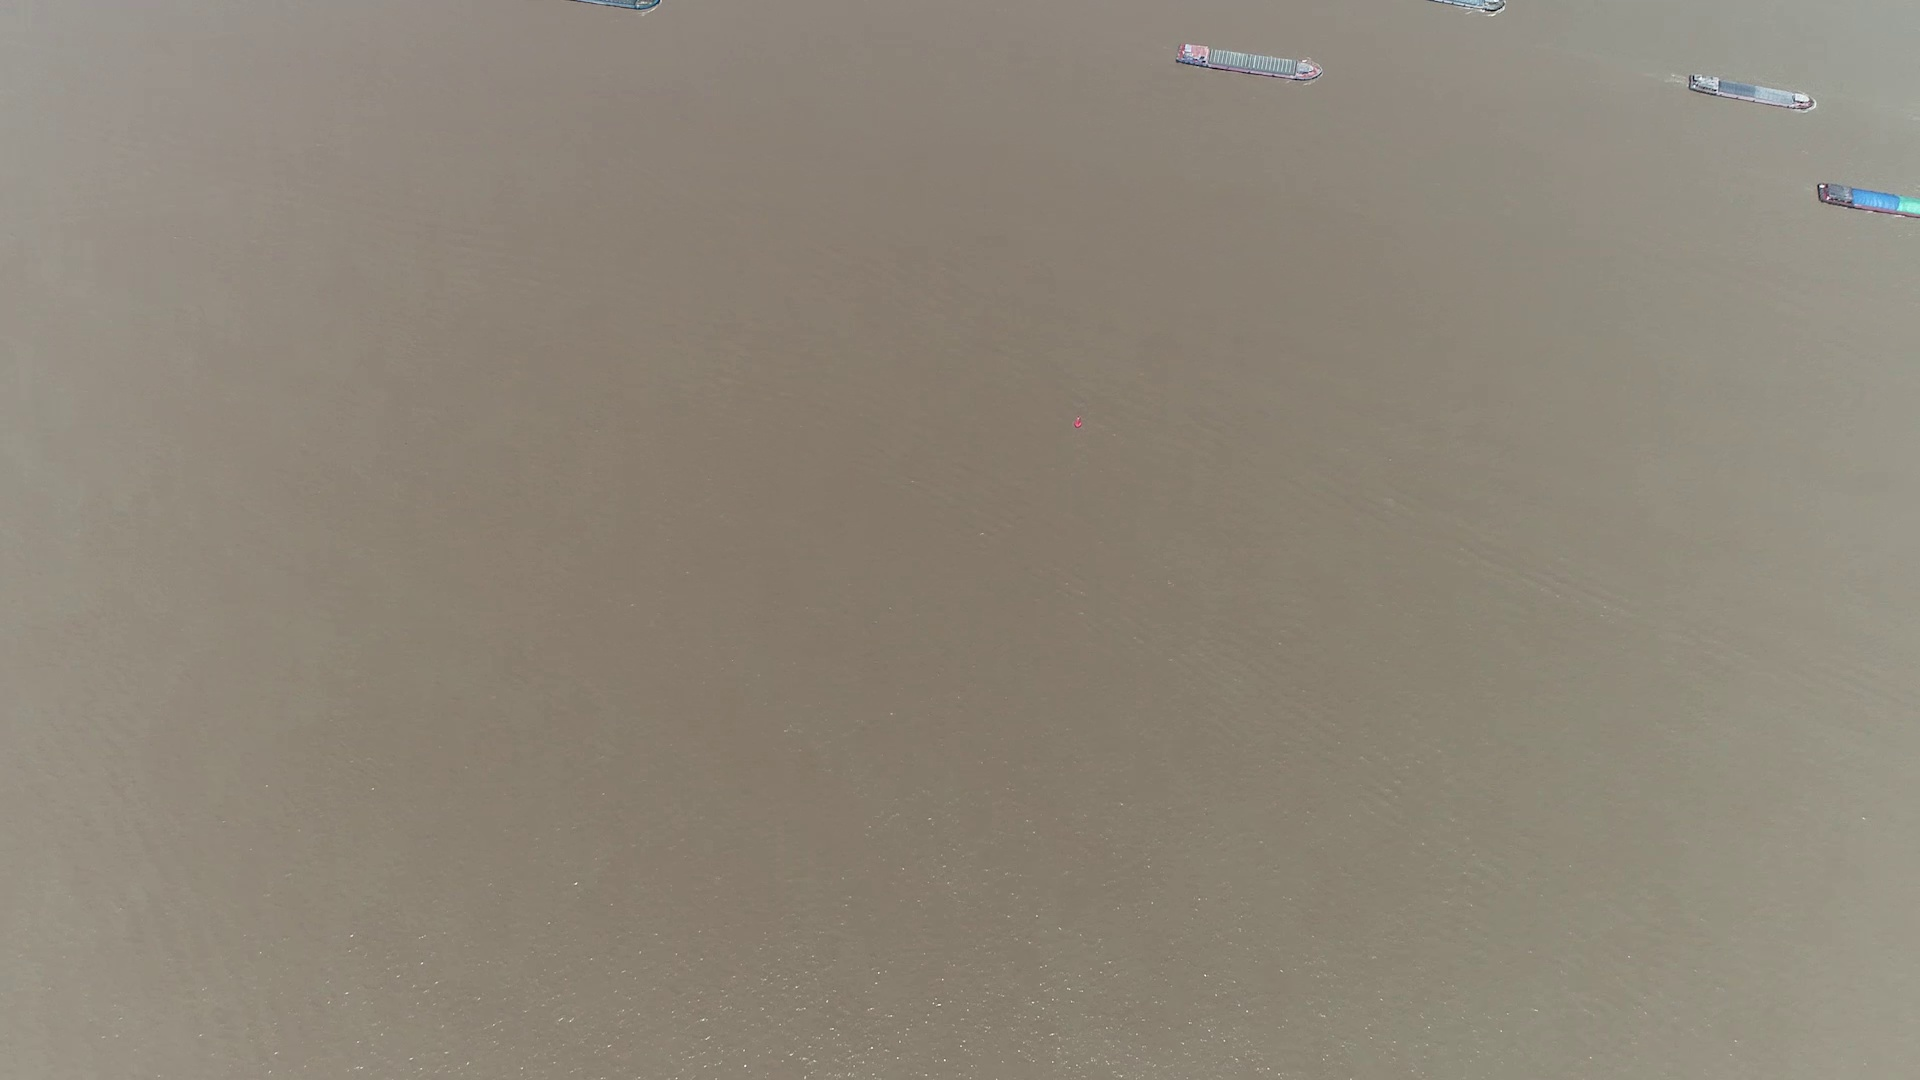ship: (1178, 42, 1323, 82), (1687, 71, 1816, 109), (1816, 181, 1920, 218), (1435, 0, 1505, 11)
